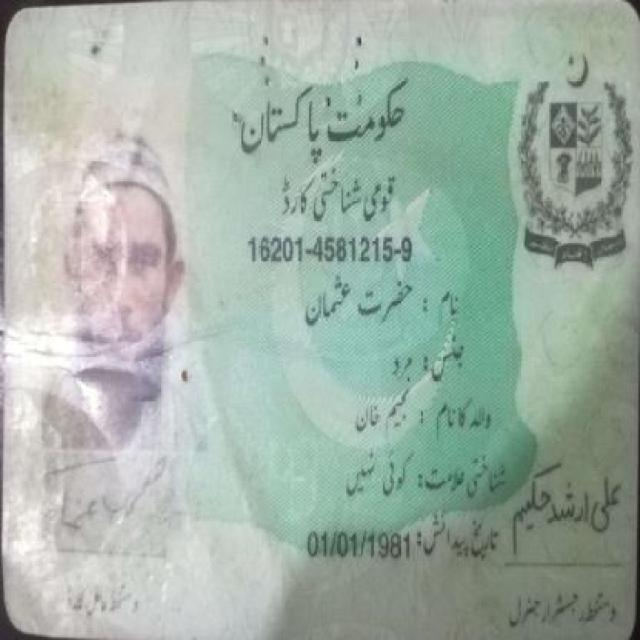Front: (12, 14, 636, 632)
